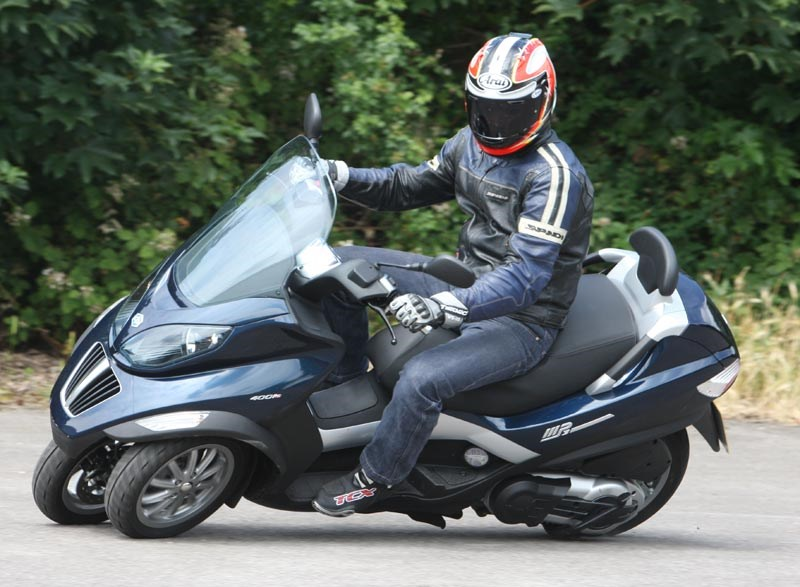helmet: (463, 29, 560, 157)
